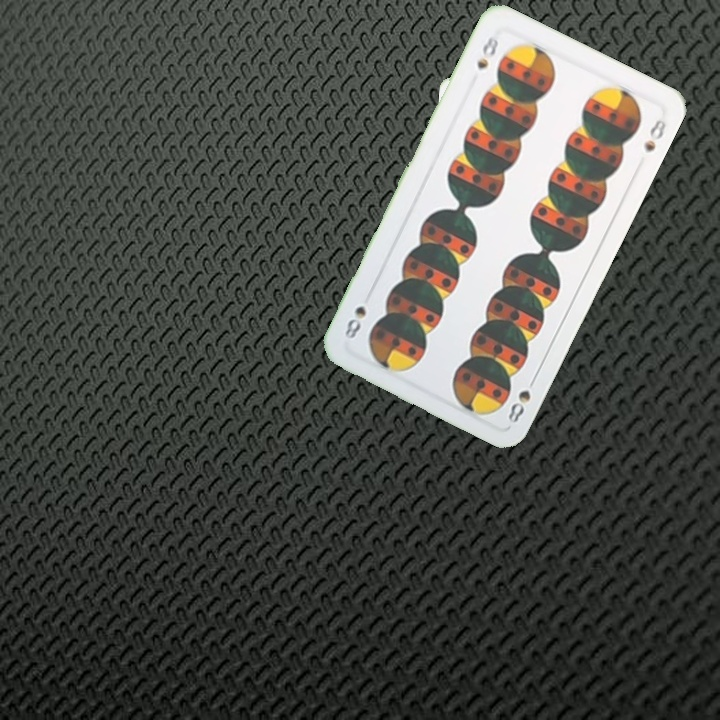S8: (504, 371, 540, 426), (472, 28, 501, 72)
